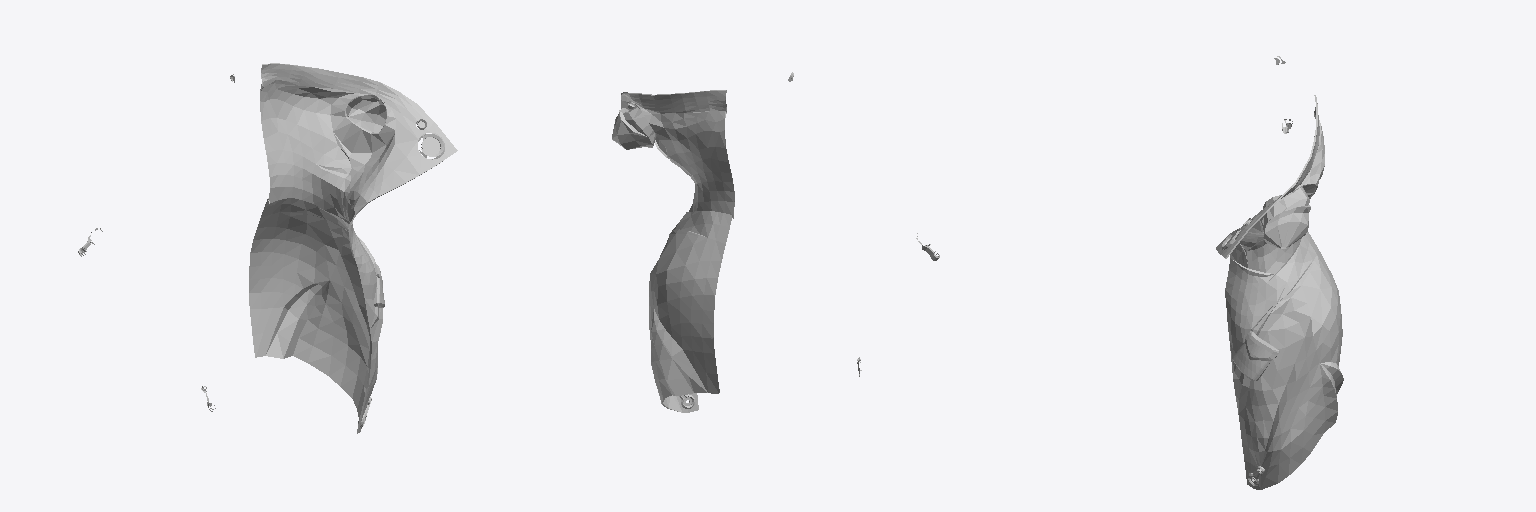
File: Cort L.obj
3 renders of one model, left to right at view 1: azimuth 30°, elevation 25°; view 2: azimuth 150°, elevation 25°; view 3: azimuth 270°, elevation 25°, orthographic.
Visible parts, largest first — view 1: Jacket_R_mtr_G11_V100.052, Jacket_mtr_G11_V100.051; view 2: Jacket_R_mtr_G11_V100.052; view 3: Jacket_R_mtr_G11_V100.052, Jacket_mtr_G11_V100.051.
Boxes of the visible parts, x1=… form: Jacket_R_mtr_G11_V100.052: x1=249, y1=63, x2=457, y2=433; Jacket_mtr_G11_V100.051: x1=78, y1=74, x2=444, y2=427; Jacket_R_mtr_G11_V100.052: x1=612, y1=90, x2=734, y2=412; Jacket_R_mtr_G11_V100.052: x1=1216, y1=95, x2=1343, y2=489; Jacket_mtr_G11_V100.051: x1=1222, y1=56, x2=1292, y2=485.
Size of the model in its own units: 0.6771 by 0.6978 by 0.216.